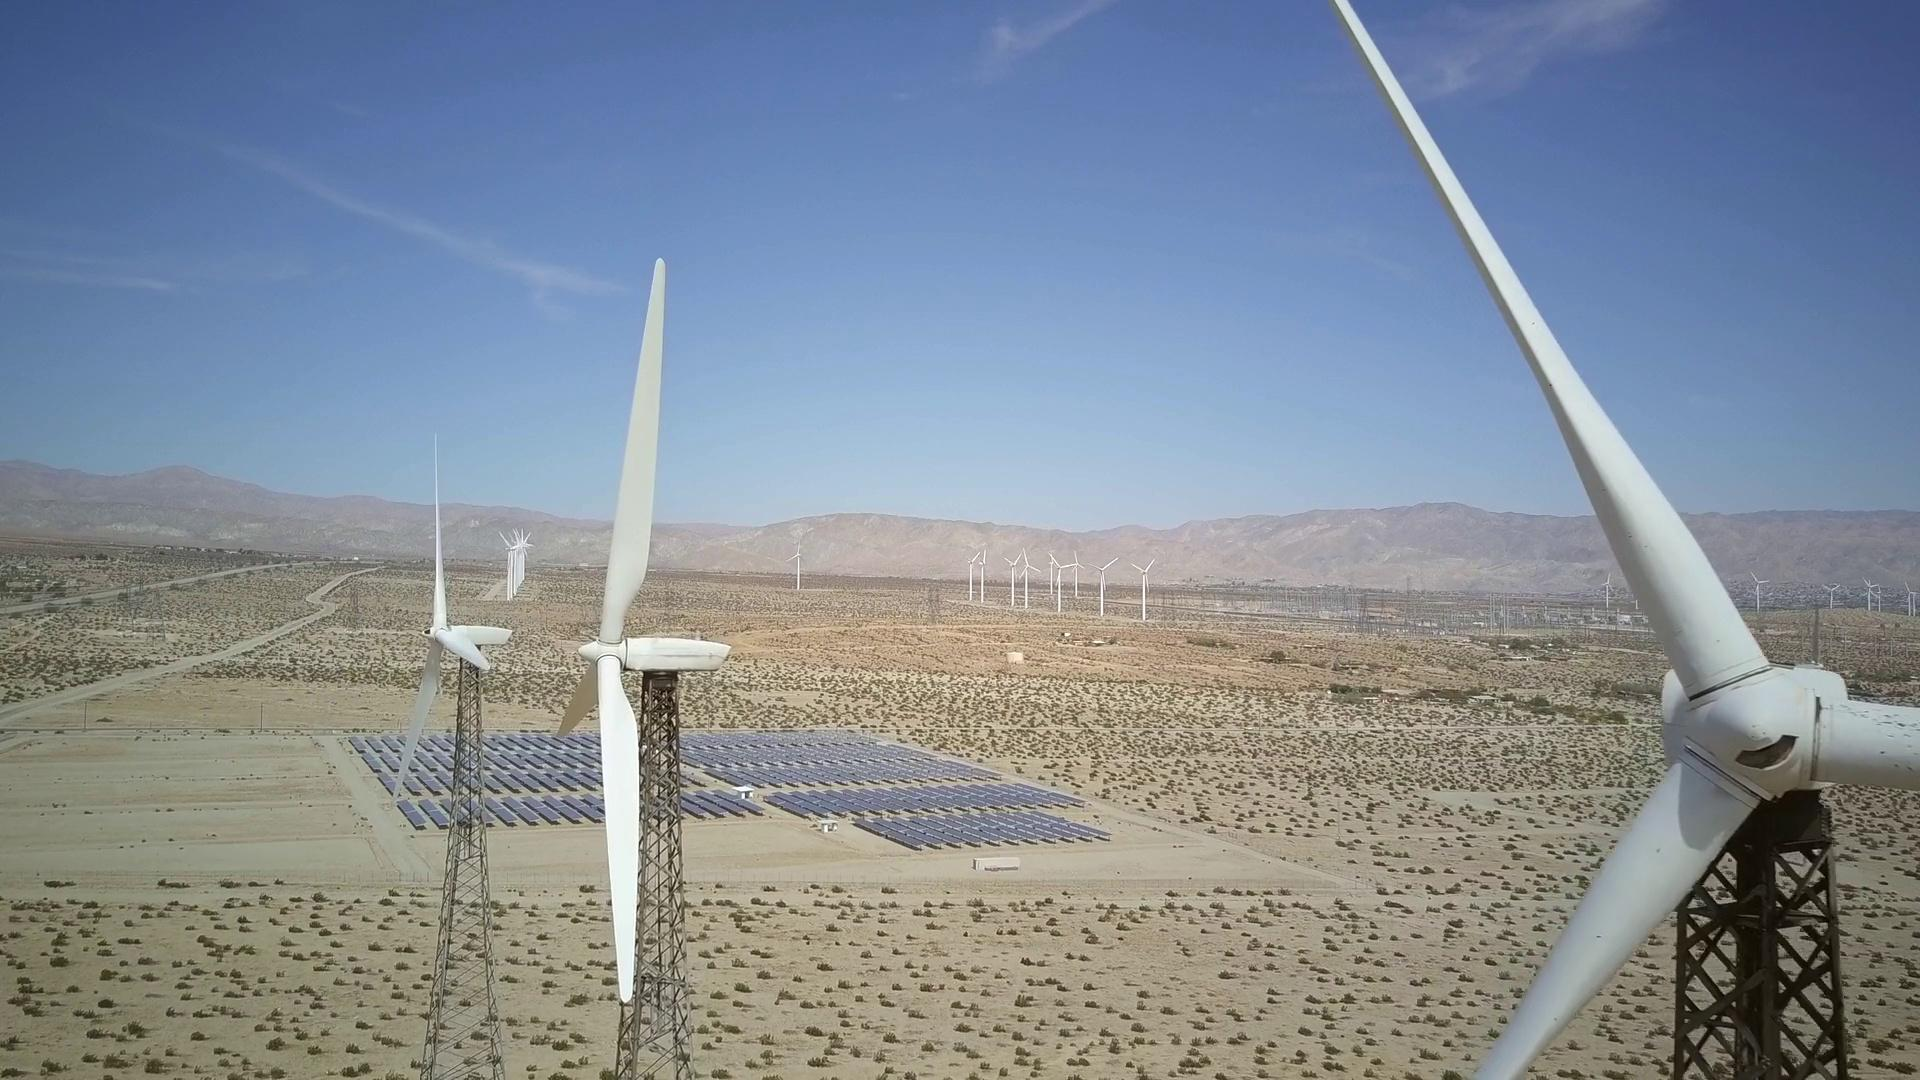turbine: (1158, 7, 1920, 1080), (550, 255, 746, 1080), (371, 411, 520, 1080), (1770, 604, 1840, 876), (1034, 541, 1083, 617), (1730, 554, 1784, 618), (1084, 538, 1122, 622), (996, 538, 1030, 616), (778, 527, 816, 596), (1130, 549, 1159, 626), (953, 541, 986, 607), (972, 541, 1000, 599)
